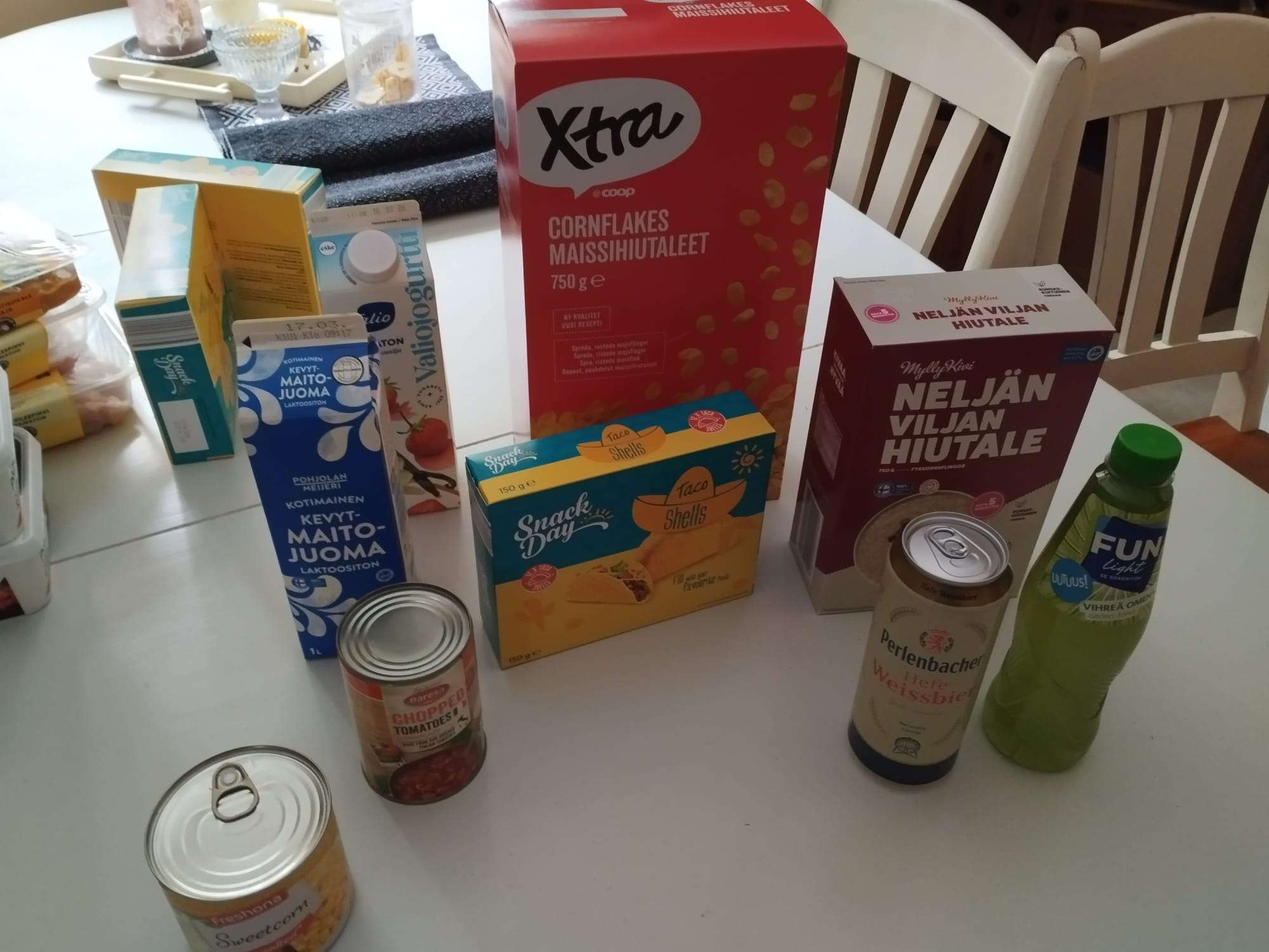Dryckeskartong: (234, 302, 412, 660), (310, 177, 460, 517)
Konservburk: (130, 746, 359, 949), (312, 587, 491, 807)
Pantburk: (845, 507, 1013, 785)
